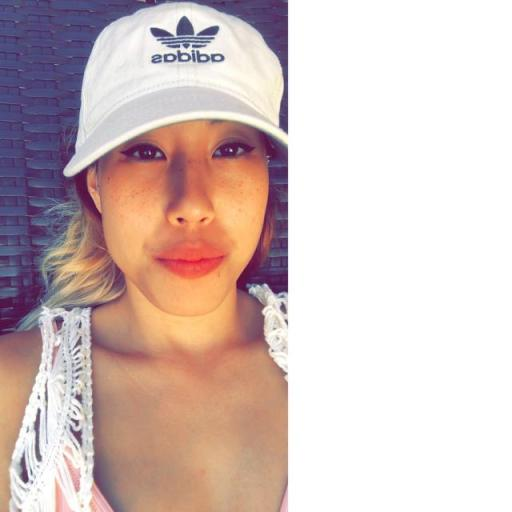Adidas: (145, 14, 227, 66)
